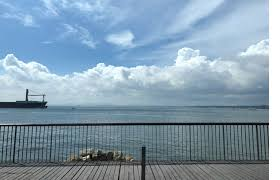sea: (1, 107, 267, 162)
sky: (1, 1, 269, 105)
